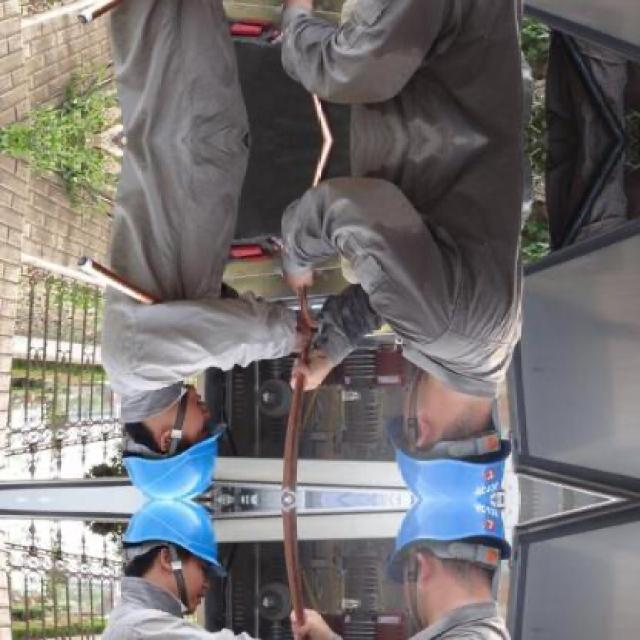con casco: (382, 368, 528, 498), (100, 379, 234, 506)
